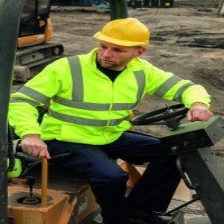helmet: (85, 19, 157, 50)
person: (17, 16, 166, 224)
vest: (30, 58, 157, 151)
